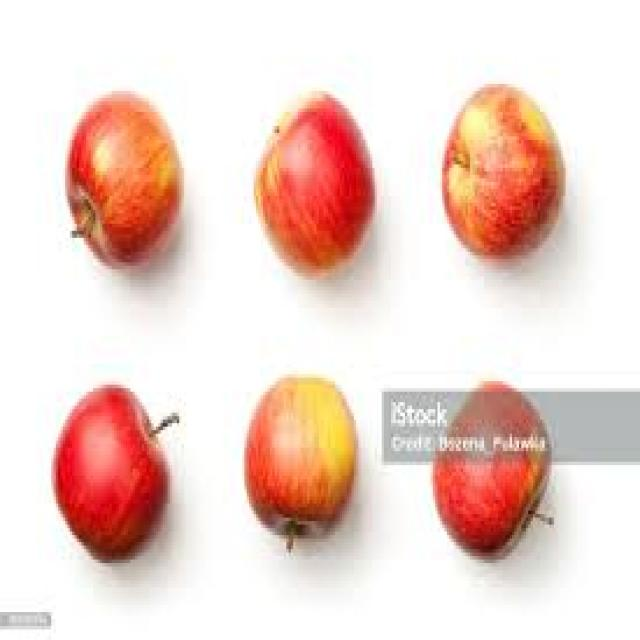non_orange: (411, 367, 607, 623), (44, 23, 214, 296), (220, 30, 389, 285), (424, 39, 568, 290), (38, 356, 181, 593), (232, 370, 376, 554)
